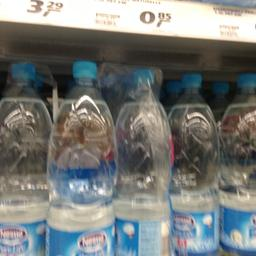water: (44, 60, 116, 254), (112, 68, 173, 254), (0, 62, 54, 255), (170, 72, 220, 255), (217, 72, 255, 253)
